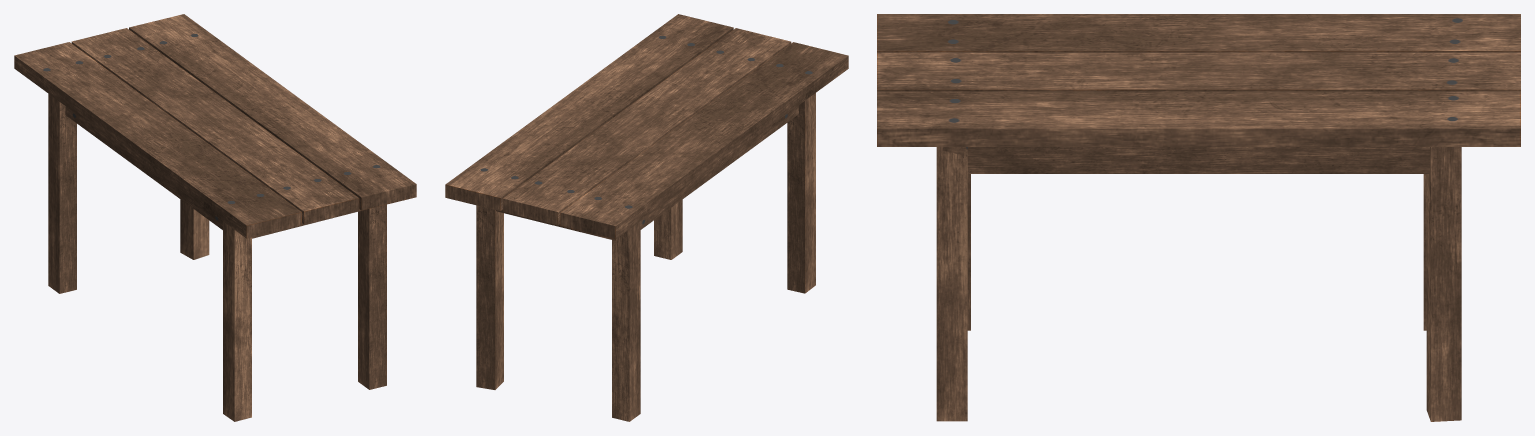
The model's file is mesa_armada.glb.
3 views of the same model, side by side, from view 1: azimuth 30°, elevation 25°; view 2: azimuth 150°, elevation 25°; view 3: azimuth 270°, elevation 25° (orthographic). The views are drawn at different scales.
Visible parts, largest first — view 1: Object_3; view 2: Object_3; view 3: Object_3.
Part boxes in pixels (left/top/right/bottom): Object_3: left=14, top=14, right=416, bottom=421; Object_3: left=445, top=14, right=848, bottom=421; Object_3: left=877, top=14, right=1520, bottom=421.
Size of the model in its own units: 1.17 by 1.42 by 2.78.
1 material, 1 textured.
